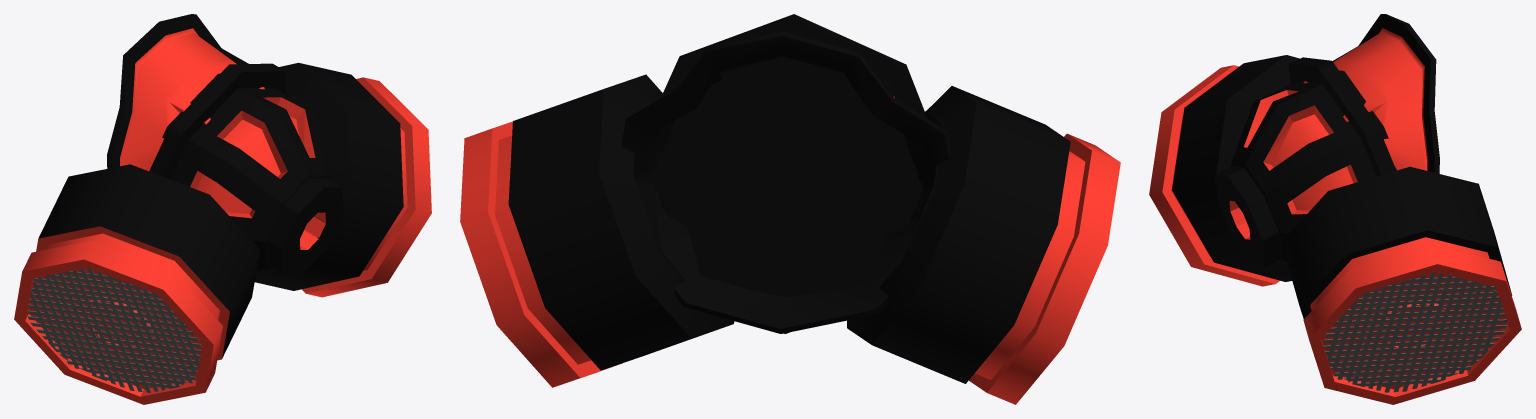
3 views of the same model, side by side, from view 1: azimuth 30°, elevation 25°; view 2: azimuth 150°, elevation 25°; view 3: azimuth 270°, elevation 25° (orthographic). The views are drawn at different scales.
Parts seen in each view (by area): view 1: gas_mask_cylinder, 311, gas_mask_grid_001, gas_mask_base; view 2: gas_mask_cylinder, 311, gas_mask_base; view 3: gas_mask_cylinder, 311, gas_mask_grid_001, gas_mask_base.
Part boxes in pixels (box(x1,y1,x2,y2)): gas_mask_cylinder: box(14, 62, 431, 404); 311: box(149, 63, 343, 277); gas_mask_grid_001: box(27, 267, 201, 392); gas_mask_base: box(107, 14, 264, 171); gas_mask_cylinder: box(460, 74, 1120, 404); 311: box(651, 14, 927, 333); gas_mask_base: box(622, 31, 950, 333); gas_mask_cylinder: box(1149, 55, 1521, 404); 311: box(1215, 57, 1396, 266); gas_mask_grid_001: box(1323, 272, 1507, 392); gas_mask_base: box(1303, 14, 1439, 173).
Bounding box in the file's own units: 54.18 × 40.13 × 36.44.
